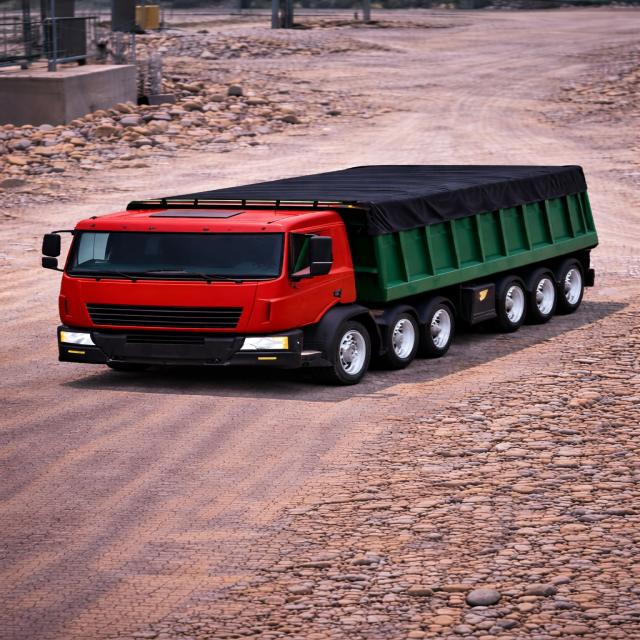trailer: (136, 165, 584, 206)
truck: (38, 161, 595, 383)
